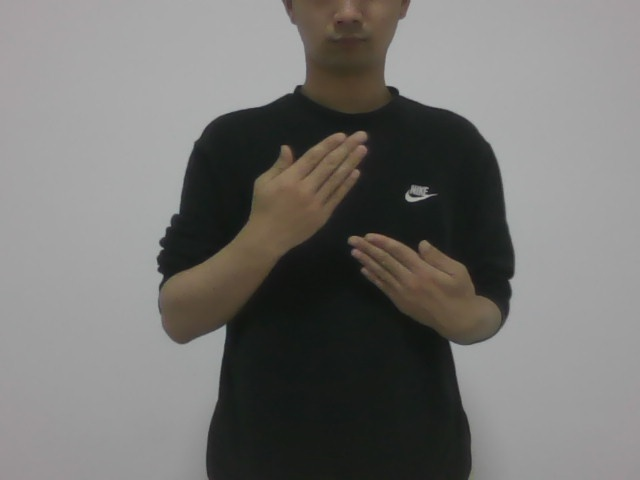tea: (233, 119, 483, 344)
